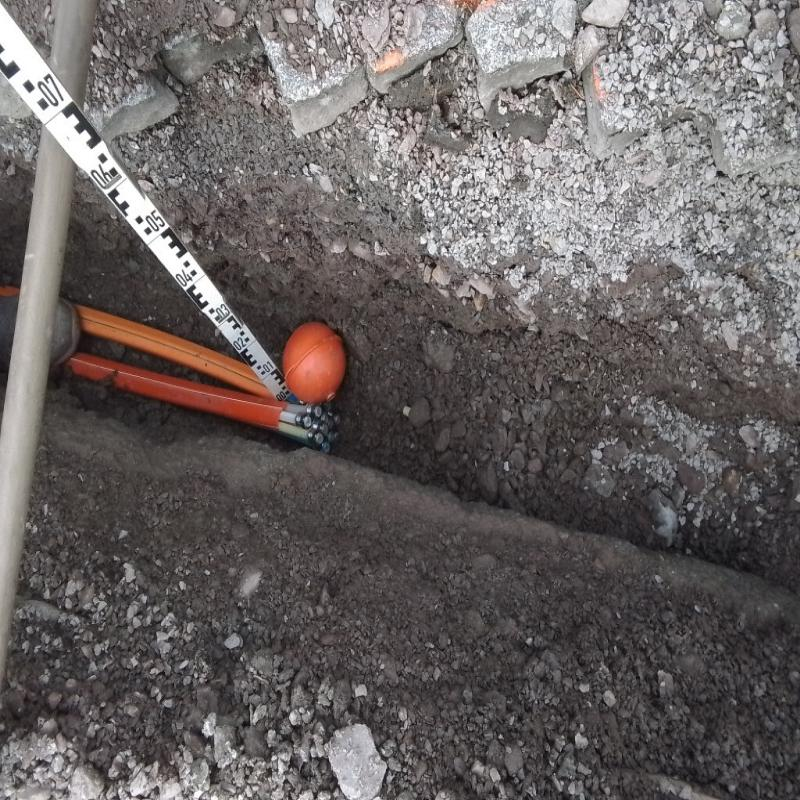Kugelmarker: (283, 322, 346, 405)
Orang-Speednetrohrchen: (70, 353, 339, 451), (77, 303, 271, 398)
